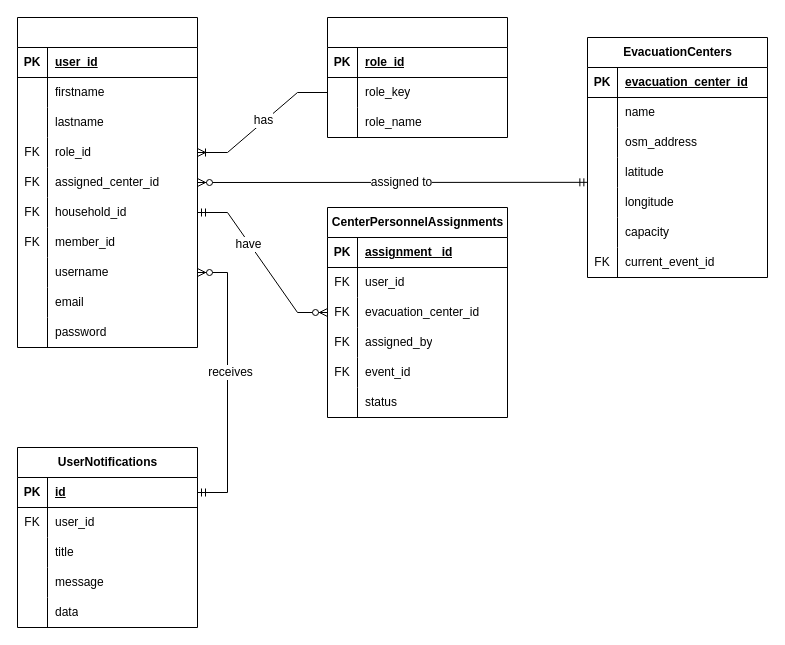
The diagram is 785 pixels wide and 645 high, and some of its shapes have lost their labels. Here are the shapes that lost their labels. From the top down, the box of each, then its label:
(326, 16, 508, 138): Roles
(16, 16, 198, 348): Users
